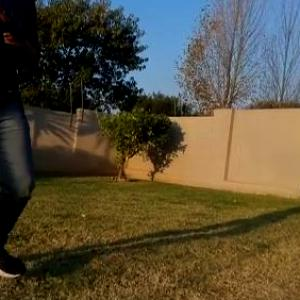follow: (0, 0, 50, 279)
